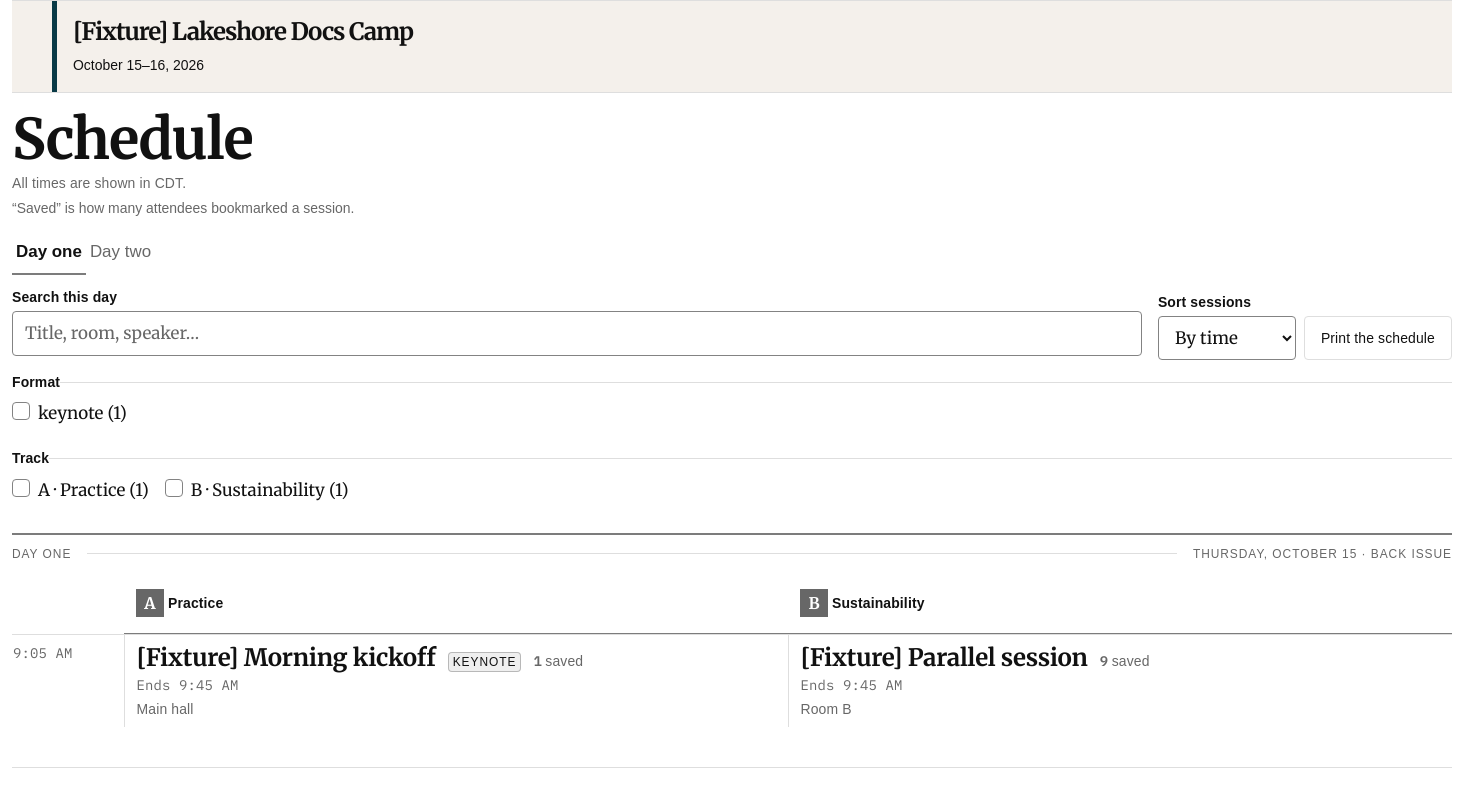
it: the two views of a day › uses ranked rows for most saved, including at a wide tracked viewport
Select "Most saved" in the dropdown labelled "Sort sessions" at coordinates (1227, 338), box x1=1158 y1=316 x2=1296 y2=360
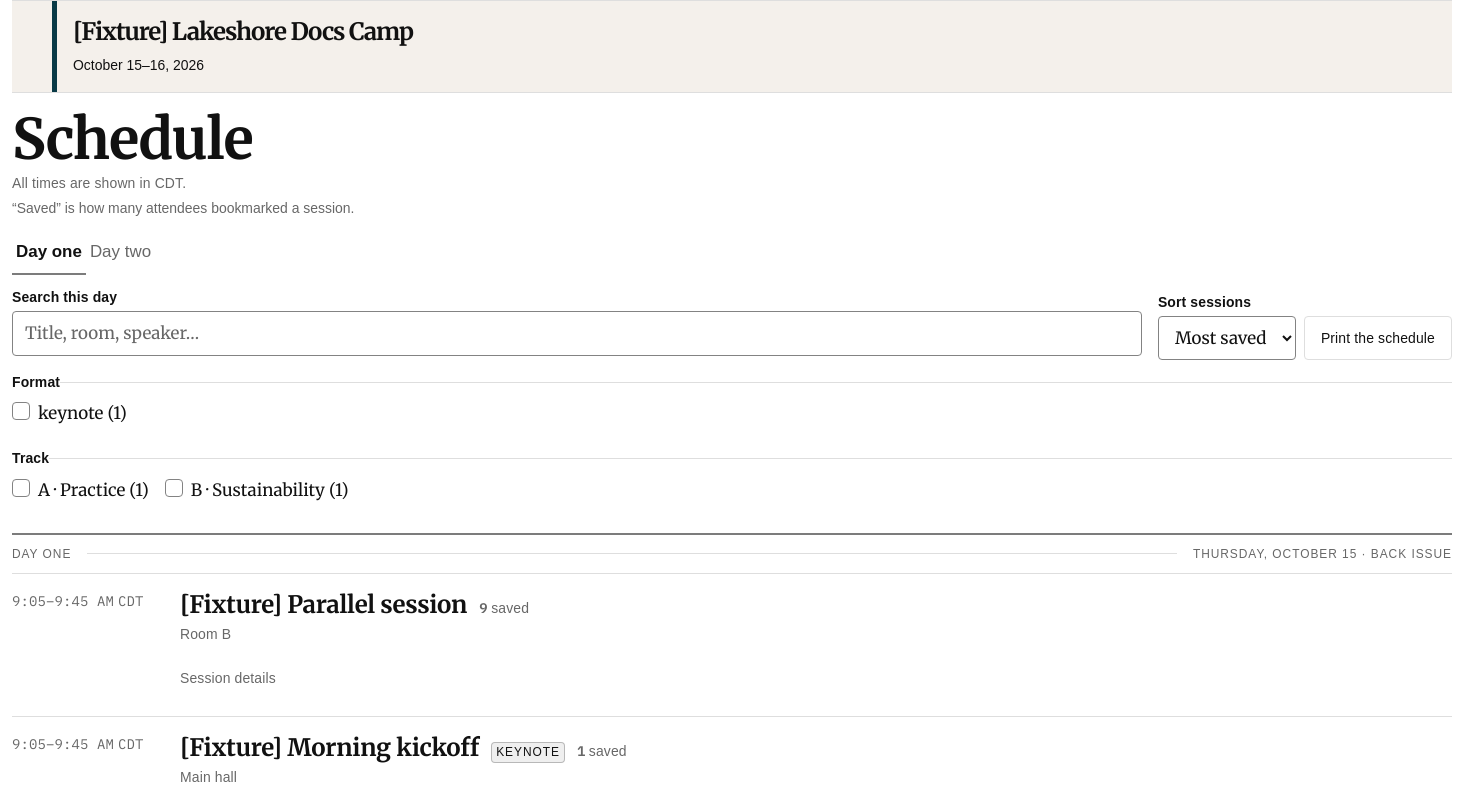
Expected: the table is gone
Expected: the headings read "[Fixture] Parallel session", "[Fixture] Morning kickoff", in this order, x1=180 y1=590 x2=467 y2=620; x1=180 y1=733 x2=479 y2=763
